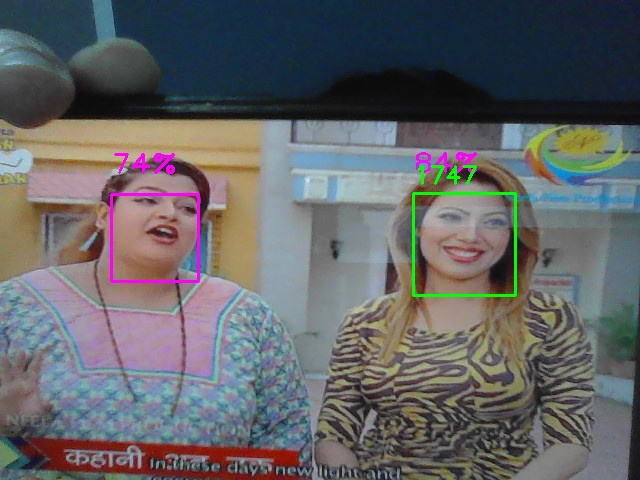fake: (413, 193, 516, 296)
